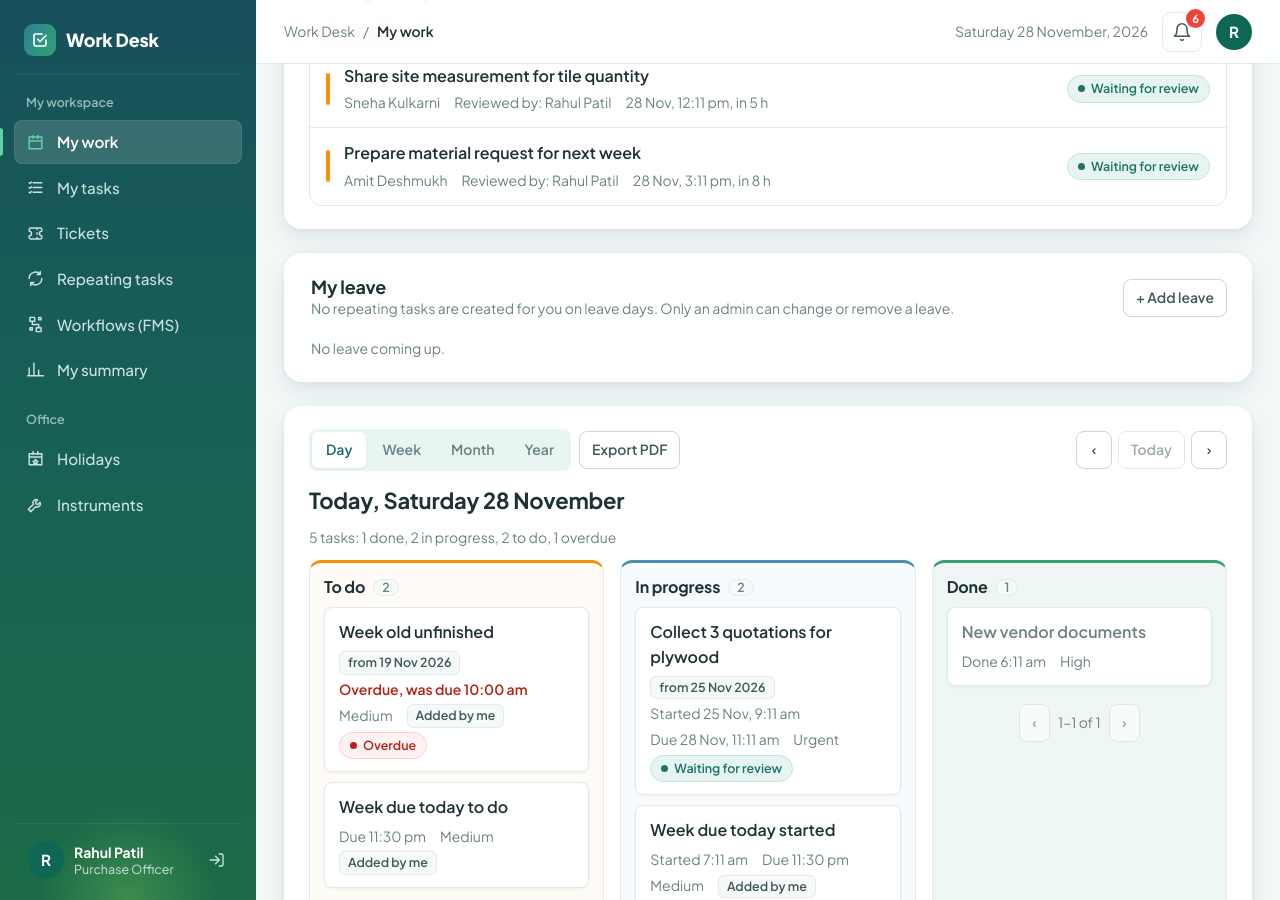
Test: today view carries over unfinished work › week view: tasks show only on their due date, in To do / In progress groups (no carry over)
(page scrolled)
Click the tab "Week": (402, 450) [368,432,435,468]
(page scrolled)
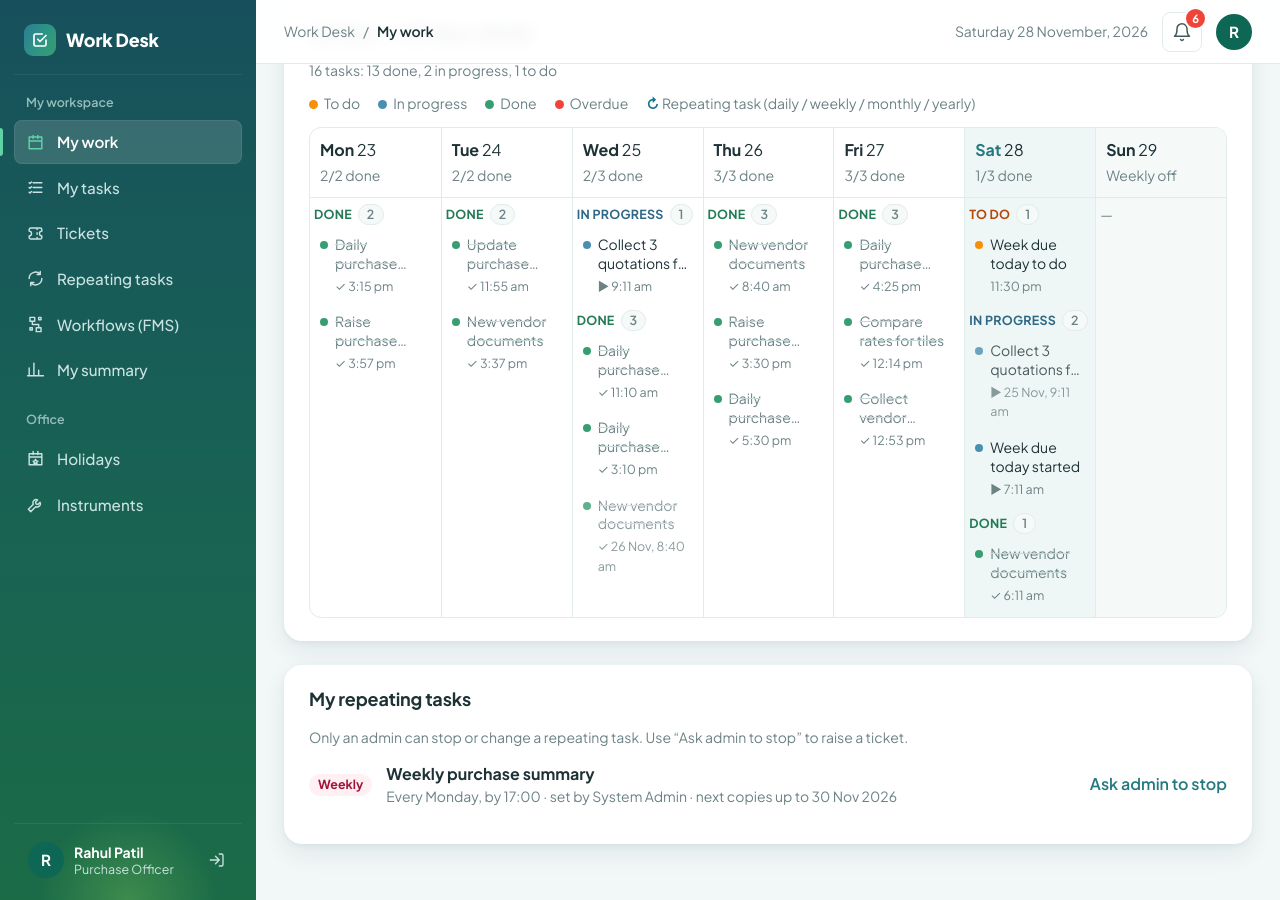
Expected: the text "Week due today to do" is shown, [990,235,1067,272]
Result: the element with class "is-today" is shown at [964,128,1095,617]
Result: the element with class "wg-todo" is shown at [969,204,1091,302]
